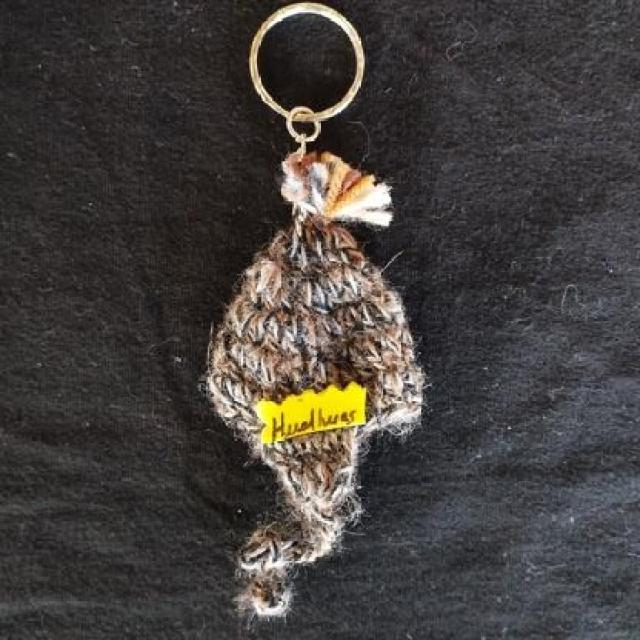Llavero: (203, 147, 429, 619)
